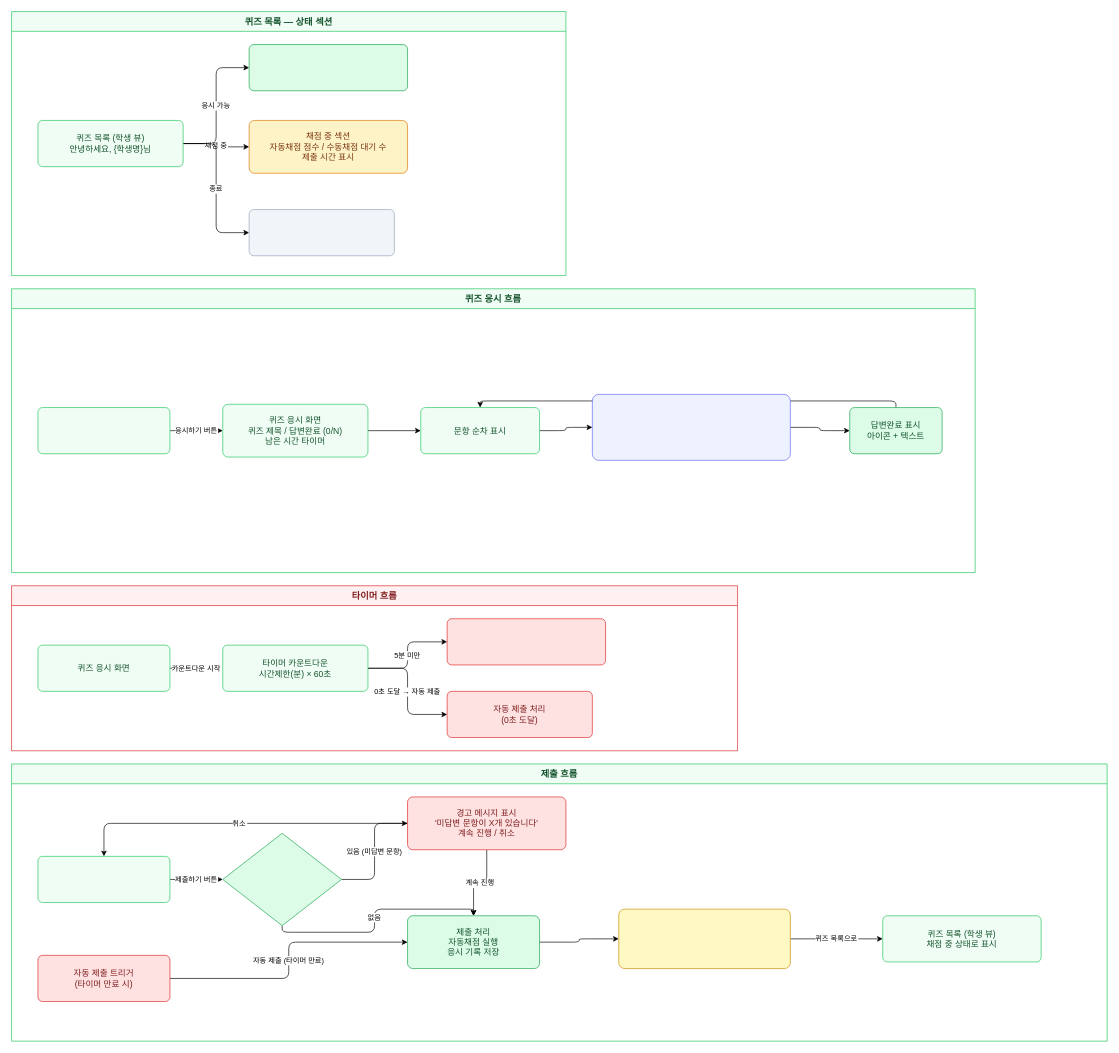
The diagram is 1119 pixels wide and 1053 high, and some of its shapes have lost their labels. The centre of each missing label's shape, as x and y in pixels:
"미답변 문항 있음?" goes at pixel 282 879.
"배경/텍스트 빨간색으로 변경 (5분 미만)" goes at pixel 526 641.
"유형별 입력 영역 렌더링 (교수자가 설정한 유형에 따라) 객관식·참거짓·단답형·서술형 등 12종" goes at pixel 691 427.
"응시 가능 섹션 시간제한/문항수/마감일 표시" goes at pixel 328 67.
"응시 중 (문항 입력)" goes at pixel 103 879.
"제출 완료 모달 자동채점 점수 수동채점 대기 문항 수 응시 정보 (제출/소요 시간)" goes at pixel 704 938.
"종료 섹션 최종 점수 표시" goes at pixel 321 232.
"퀴즈 목록 (학생 뷰)" goes at pixel 103 430.
